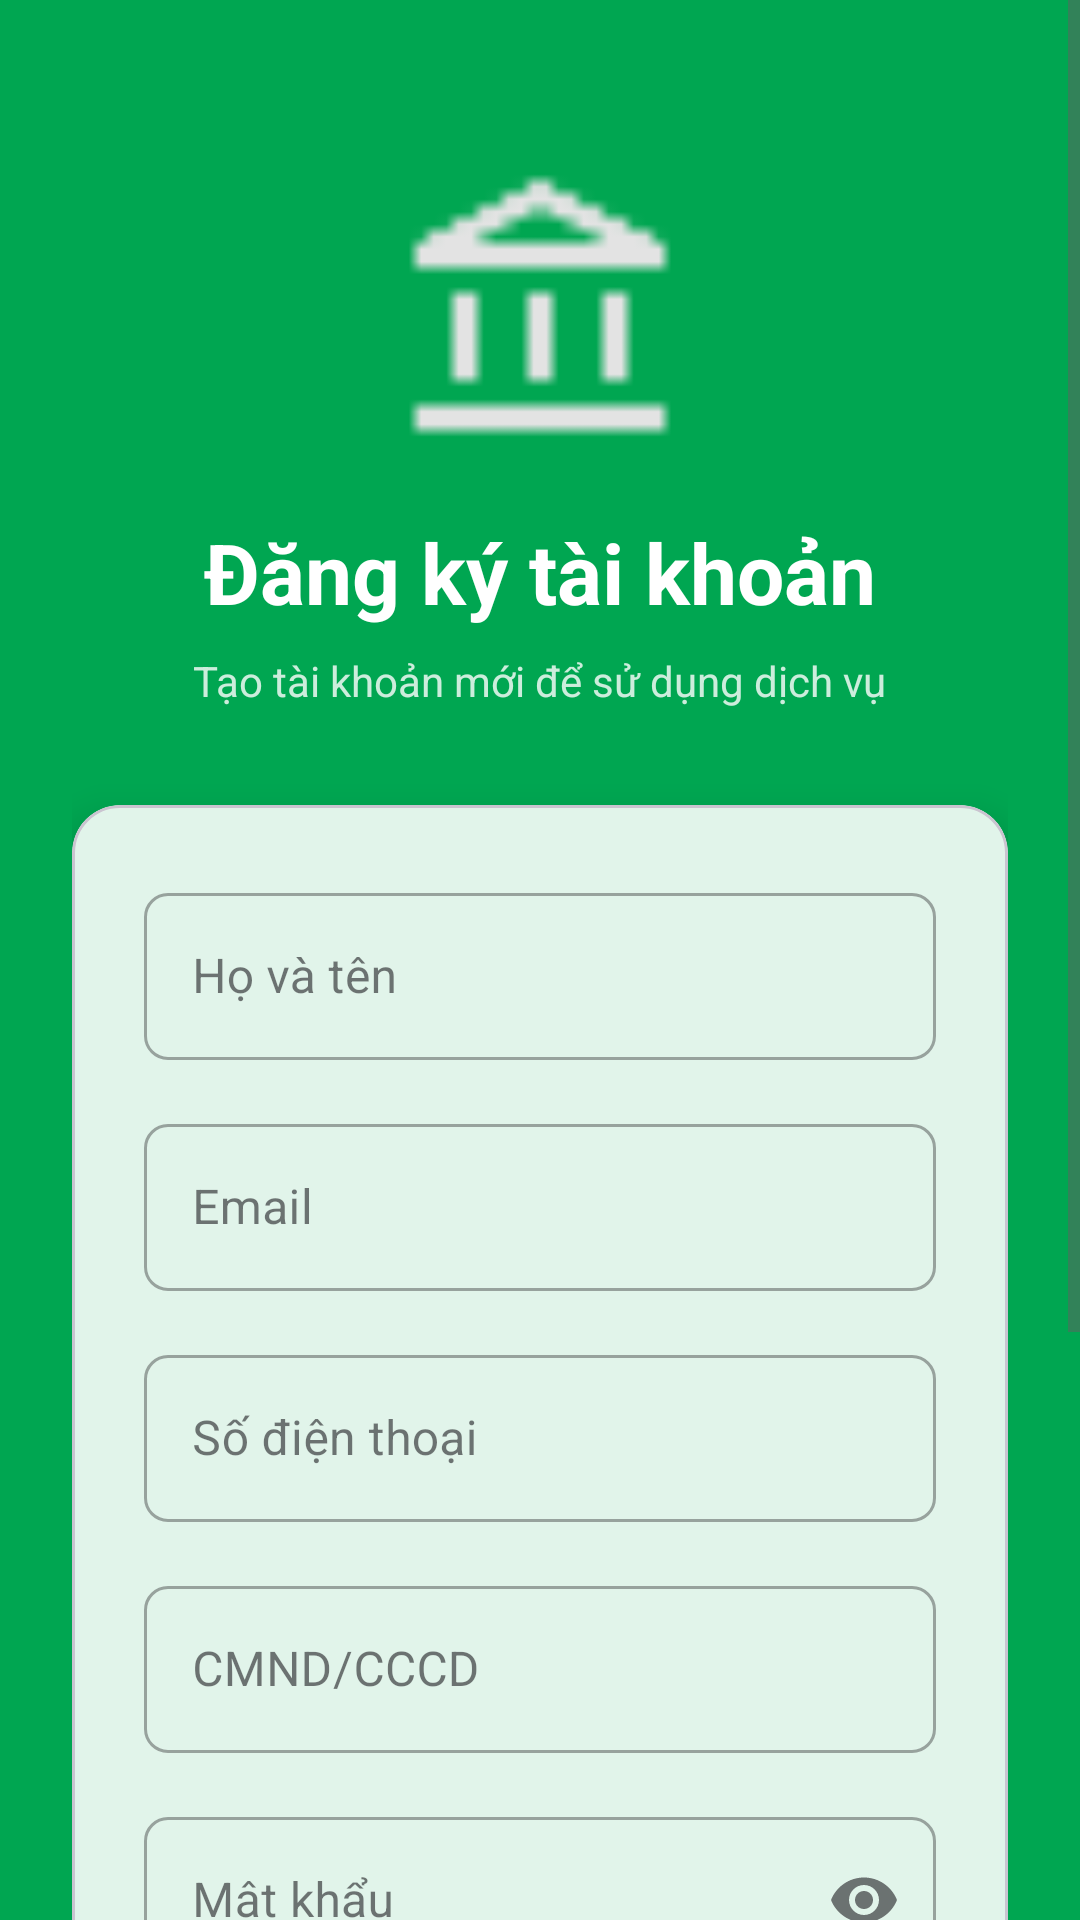

Named icons in this screenshot (1080px×1920px) and their centers, (x,y):
bank: (540,305)
